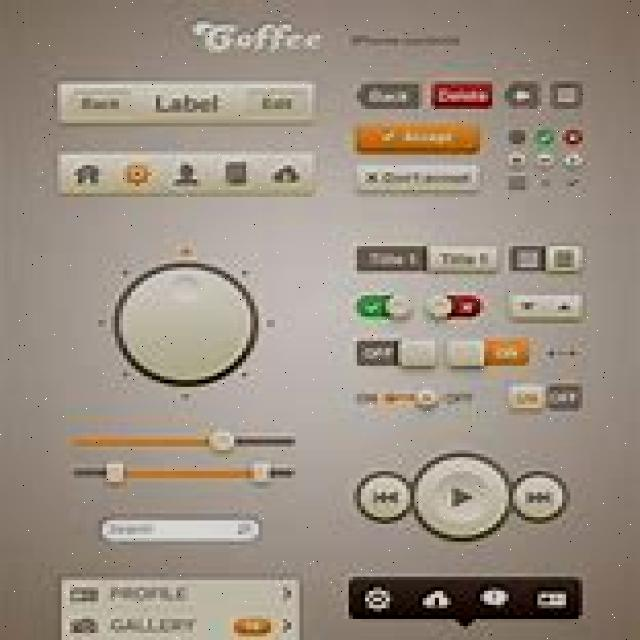button: (411, 453, 512, 544), (142, 78, 237, 126), (351, 162, 485, 196), (353, 120, 482, 154), (236, 79, 320, 127), (55, 80, 140, 126), (511, 471, 574, 526), (353, 468, 413, 525), (57, 150, 115, 198), (261, 151, 319, 196), (115, 150, 169, 197), (460, 577, 521, 616), (520, 578, 584, 615), (404, 578, 461, 617), (352, 243, 426, 273), (426, 244, 500, 274), (354, 80, 422, 112), (211, 151, 259, 196), (430, 78, 493, 112), (349, 575, 401, 615), (169, 151, 212, 197), (544, 243, 586, 274), (548, 80, 587, 110), (505, 78, 542, 108), (508, 243, 545, 271)
dropdownMenu: (62, 580, 298, 614), (62, 612, 299, 639)
input: (96, 514, 262, 546)
label: (188, 16, 330, 60)
radio: (505, 172, 527, 194), (535, 128, 557, 149), (562, 174, 585, 194), (563, 152, 585, 172), (562, 129, 586, 147), (507, 126, 528, 146), (536, 174, 557, 193), (536, 151, 554, 170), (507, 151, 526, 168)
slider: (94, 245, 280, 403), (66, 456, 302, 486), (66, 427, 302, 453), (349, 29, 467, 53), (382, 388, 473, 410), (544, 343, 582, 363)
switch: (352, 337, 438, 370), (505, 381, 585, 416), (444, 338, 531, 368), (428, 291, 486, 323), (354, 292, 413, 321)
upDown: (506, 292, 584, 322)
